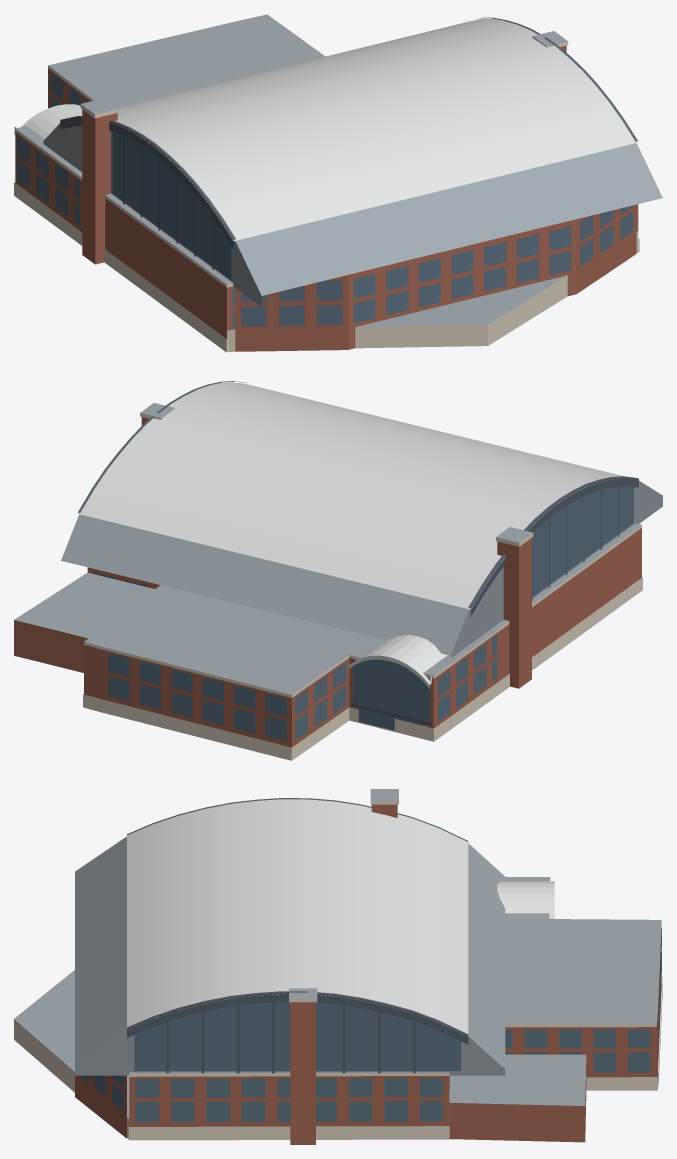
File: indy-gainbridge-fieldhouse.glb
3 views of the same model, one above another, from view 1: azimuth 30°, elevation 25°; view 2: azimuth 150°, elevation 25°; view 3: azimuth 270°, elevation 25° (orthographic). The views are drawn at different scales.
Visible parts, largest first — view 1: Gainbridge Fieldhouse; view 2: Gainbridge Fieldhouse; view 3: Gainbridge Fieldhouse.
Boxes of the visible parts, <box> form: Gainbridge Fieldhouse: <box>14,14,662,352</box>; Gainbridge Fieldhouse: <box>14,381,662,760</box>; Gainbridge Fieldhouse: <box>14,789,662,1144</box>.
Bounding box in the file's own units: 132 × 44.2 × 175.
